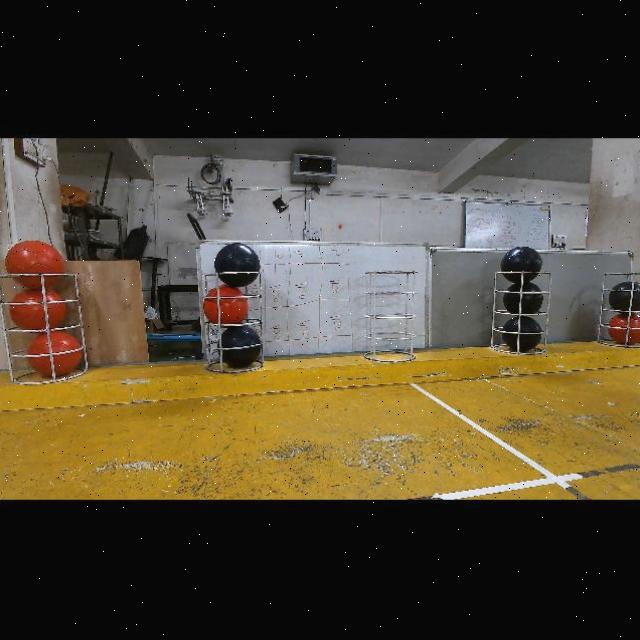P: (215, 243, 260, 288), (217, 326, 261, 369), (500, 247, 542, 284), (501, 317, 543, 353), (503, 282, 543, 316), (608, 281, 640, 316), (59, 138, 108, 153)
R: (5, 240, 64, 291), (27, 331, 83, 377), (10, 289, 66, 331), (203, 286, 249, 325), (608, 313, 640, 346)
S: (0, 273, 94, 387), (202, 271, 268, 374), (486, 272, 552, 356), (363, 270, 421, 364), (596, 269, 640, 347)
